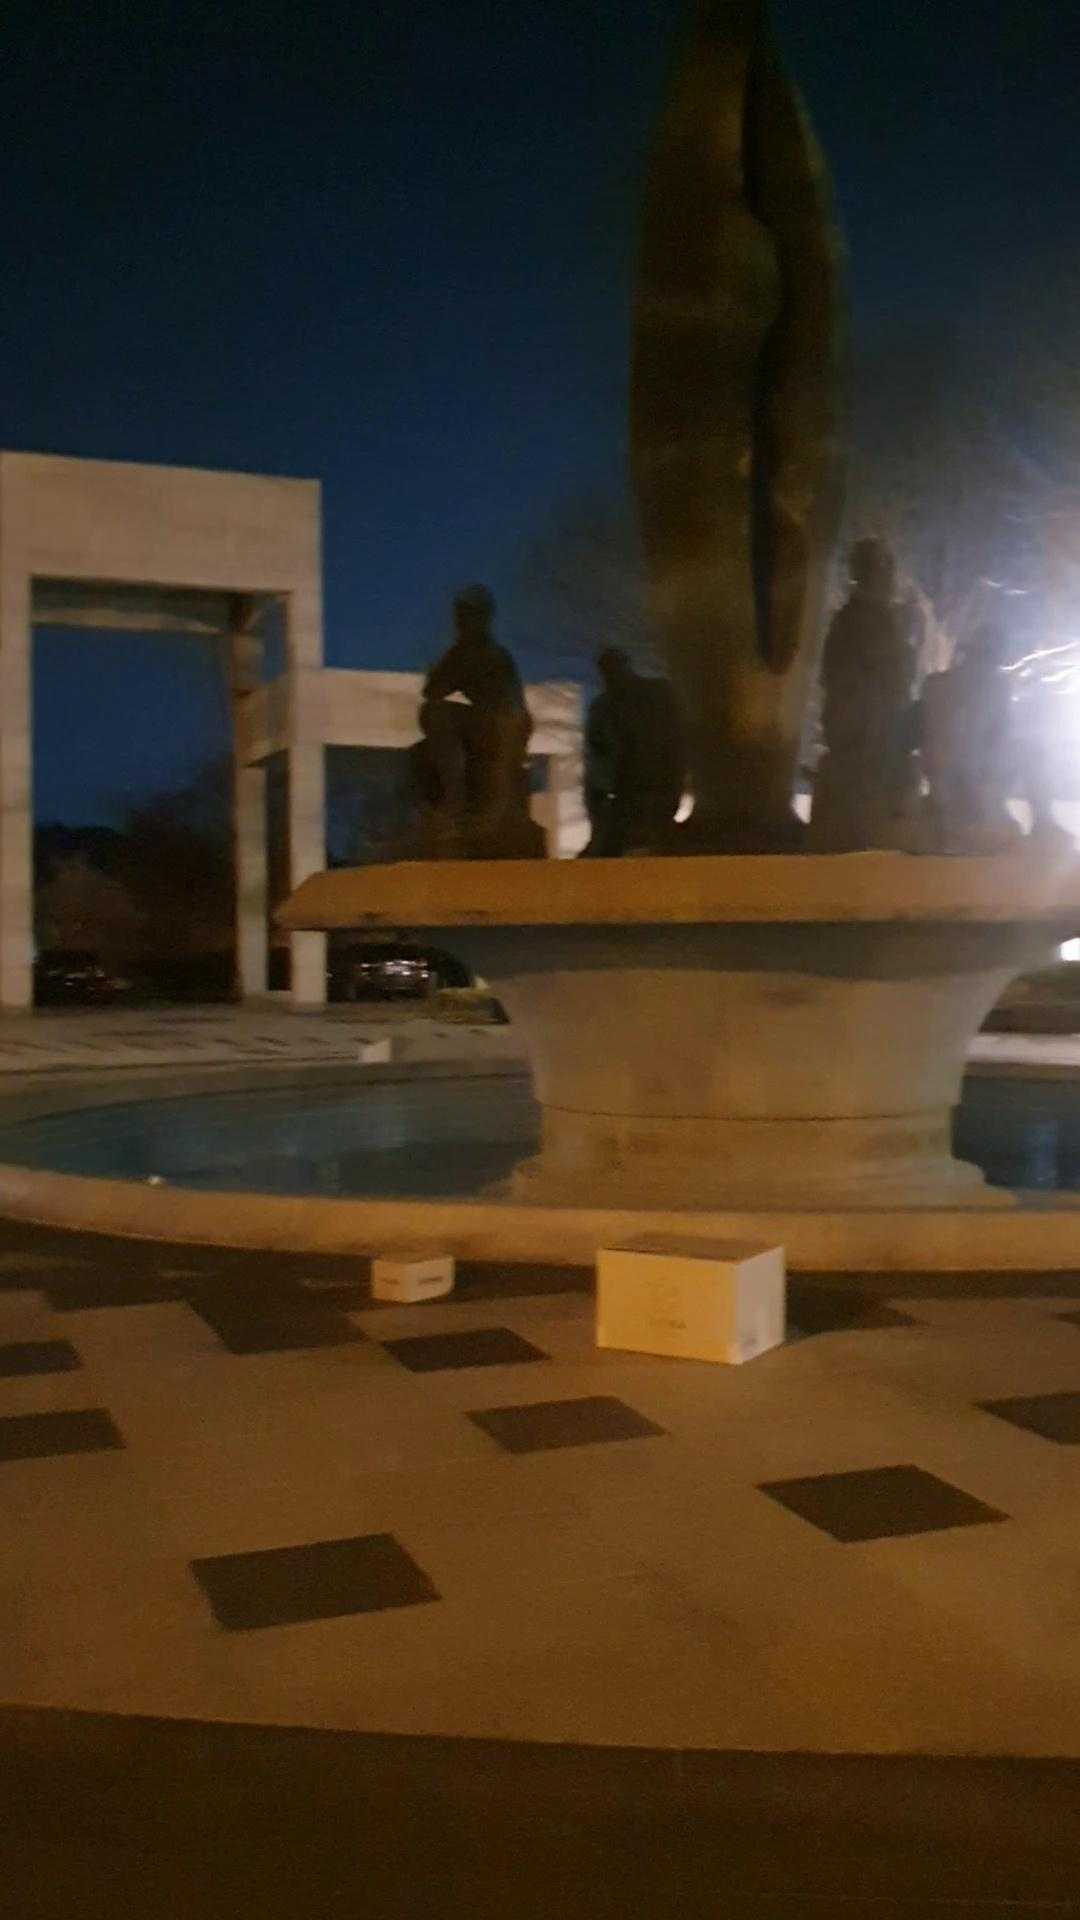Box: (588, 1222, 794, 1370), (368, 1238, 462, 1305)
